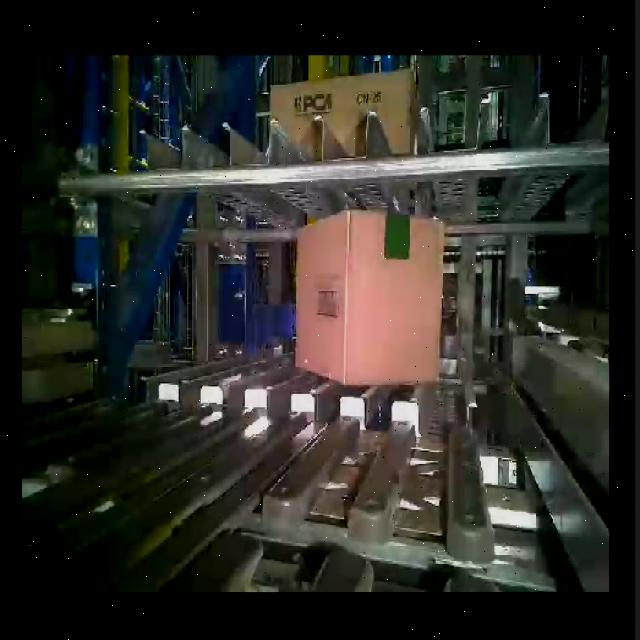box: (296, 207, 350, 388)
